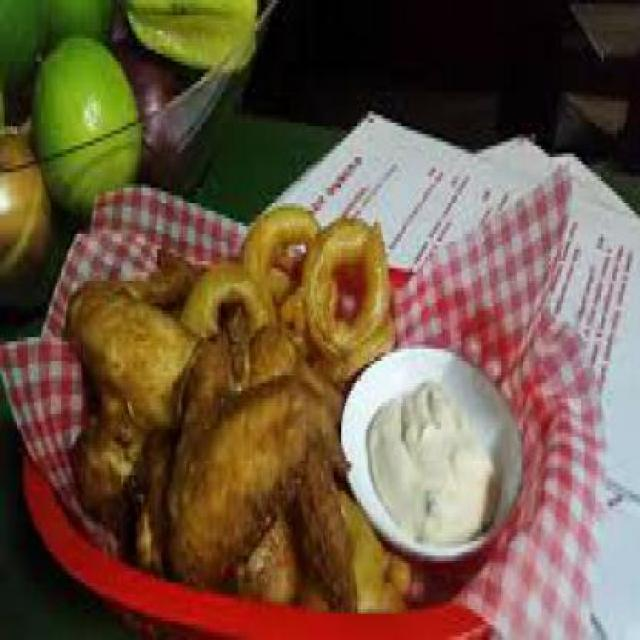chicken wings: (58, 226, 425, 614)
onion rings: (174, 180, 400, 368)
